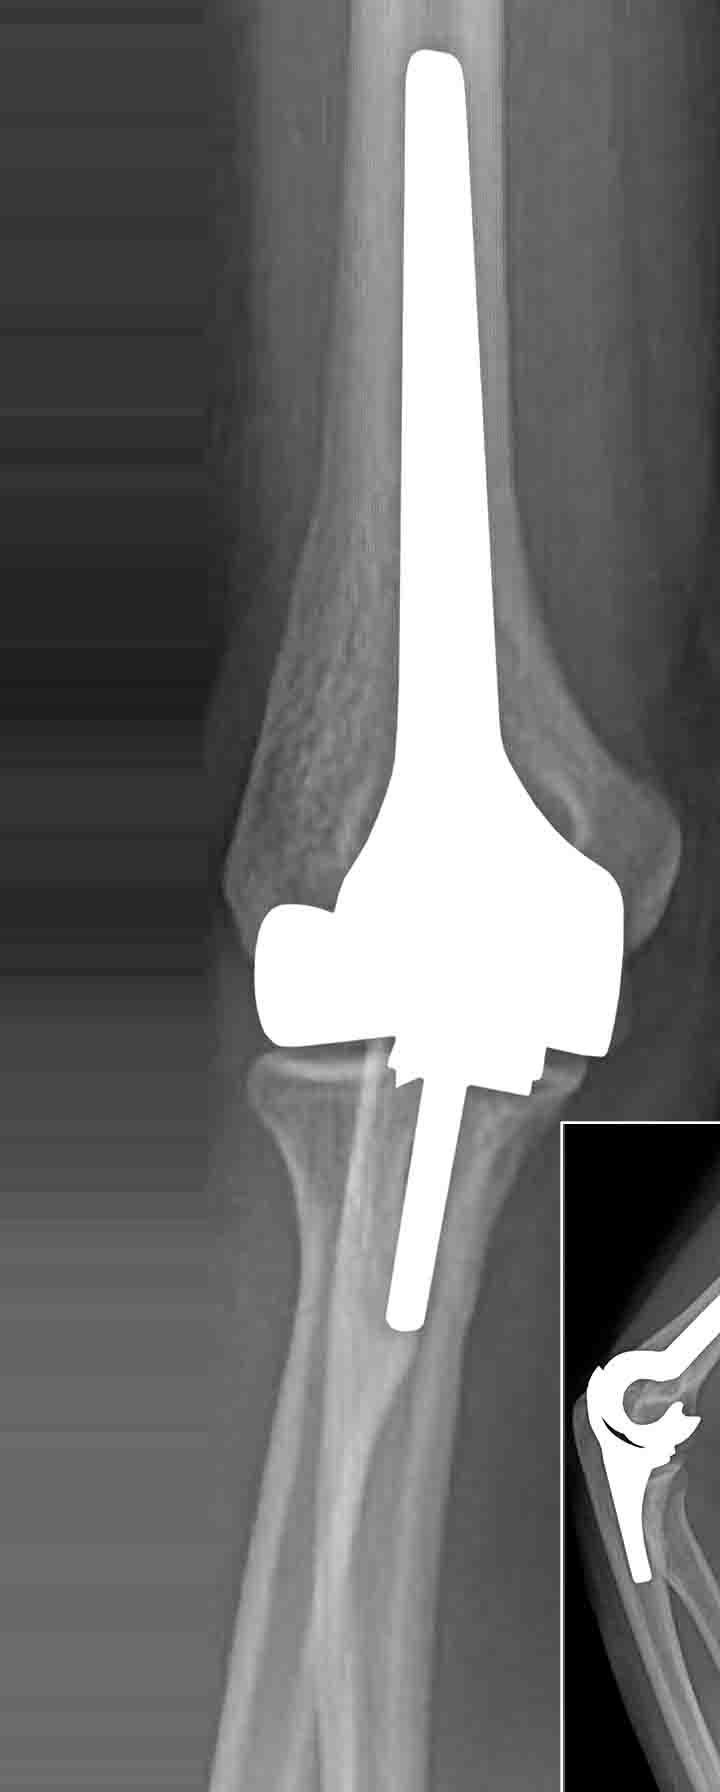Elbow - IBP - Biomet: (203, 37, 622, 1338), (565, 1213, 720, 1593)
